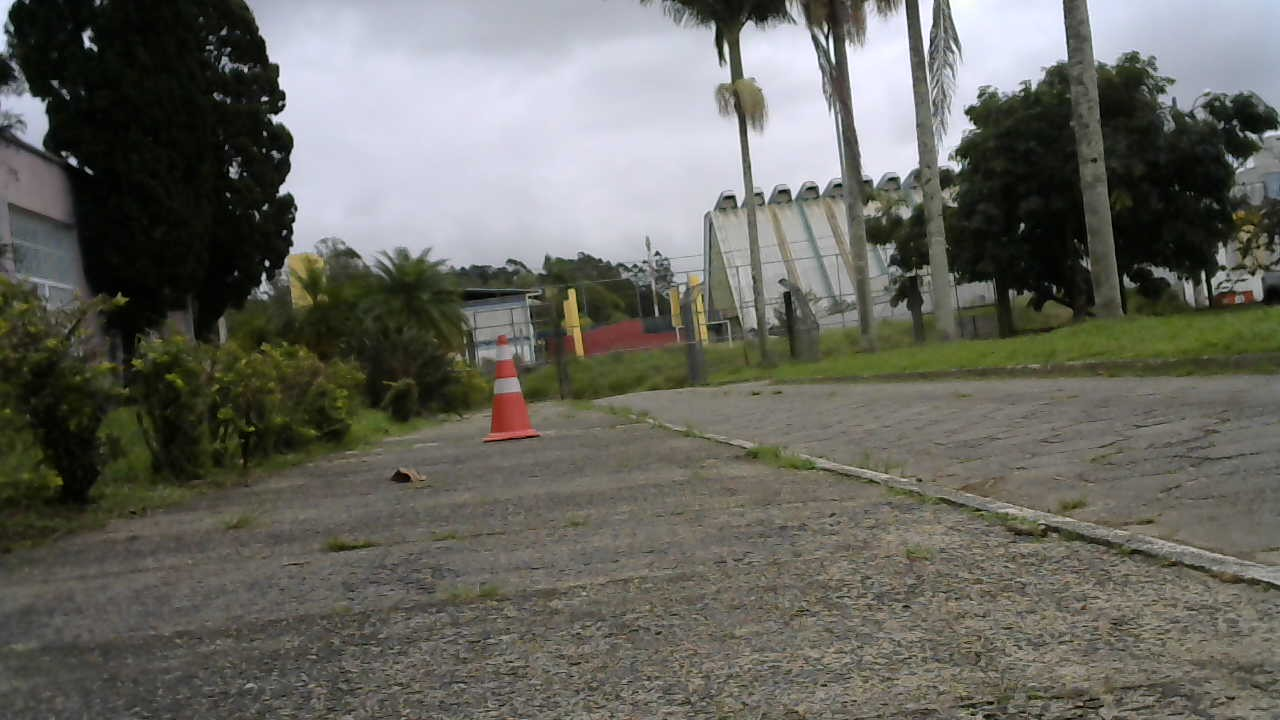cone: (486, 333, 539, 445)
